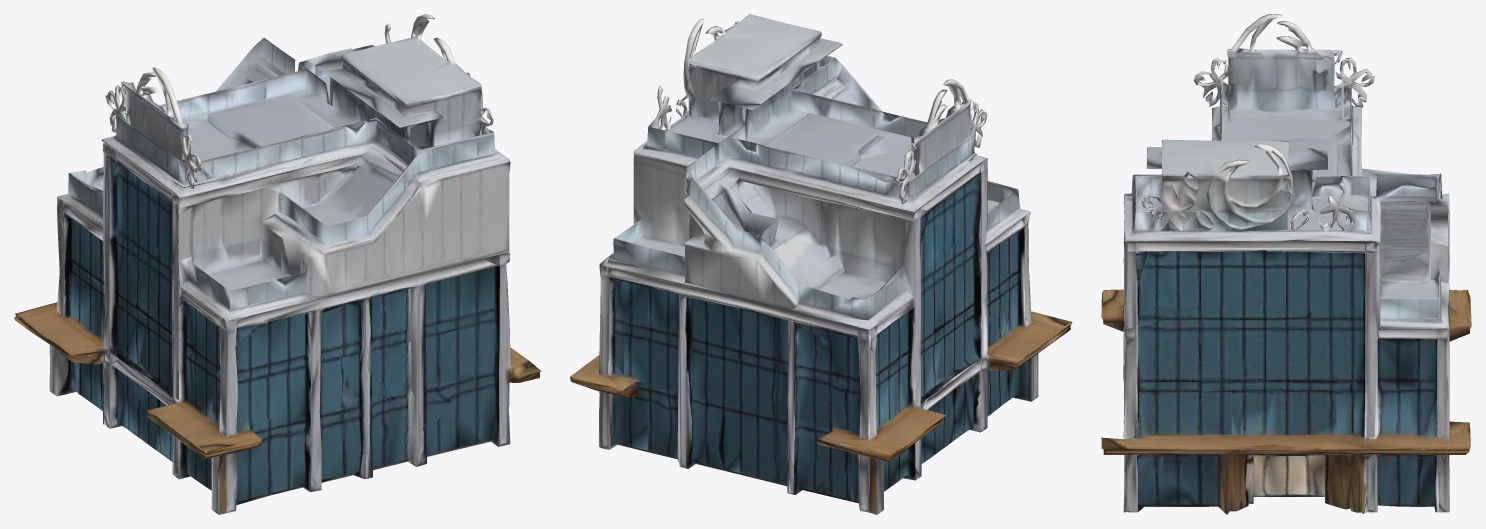
File: au_bld_animeverse.glb
The picture shows the model from 3 angles, left to right: view 1: azimuth 30°, elevation 25°; view 2: azimuth 150°, elevation 25°; view 3: azimuth 270°, elevation 25°; orthographic projection. The views are drawn at different scales.
Visible parts, largest first — view 1: tripo_node_dfb10600-0532-43e6-a2f8-26f00ac94c82; view 2: tripo_node_dfb10600-0532-43e6-a2f8-26f00ac94c82; view 3: tripo_node_dfb10600-0532-43e6-a2f8-26f00ac94c82.
Part boxes in pixels (bbox=[...]): tripo_node_dfb10600-0532-43e6-a2f8-26f00ac94c82: bbox=[14, 14, 541, 514]; tripo_node_dfb10600-0532-43e6-a2f8-26f00ac94c82: bbox=[570, 14, 1072, 514]; tripo_node_dfb10600-0532-43e6-a2f8-26f00ac94c82: bbox=[1101, 14, 1471, 514].
Bounding box in the file's own units: 0.9006 × 0.9778 × 0.8876.
1 material, 1 textured.
